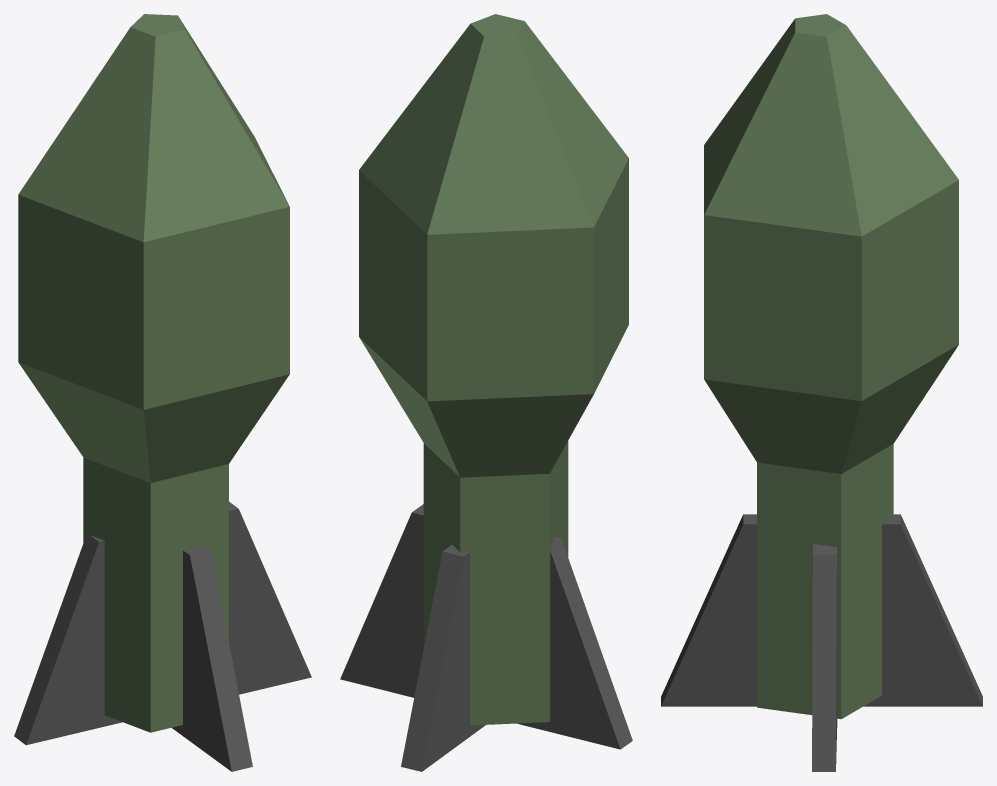
Rendered from rocket.glb.
3 views of the same model, side by side, from view 1: azimuth 30°, elevation 25°; view 2: azimuth 150°, elevation 25°; view 3: azimuth 270°, elevation 25° (orthographic).
Visible parts, largest first — view 1: Cylinder, Cube.001, Cube; view 2: Cylinder, Cube.001, Cube; view 3: Cylinder, Cube, Cube.001.
Part boxes in pixels (<box>): Cylinder: <box>18,14,289,732</box>; Cube.001: <box>14,501,311,745</box>; Cube: <box>172,545,252,771</box>; Cylinder: <box>359,14,628,725</box>; Cube.001: <box>340,504,632,749</box>; Cube: <box>401,545,485,771</box>; Cylinder: <box>704,14,958,719</box>; Cube: <box>661,514,982,706</box>; Cube.001: <box>812,544,837,771</box>.
Bounding box in the file's own units: 4.27 × 9.86 × 4.26.
